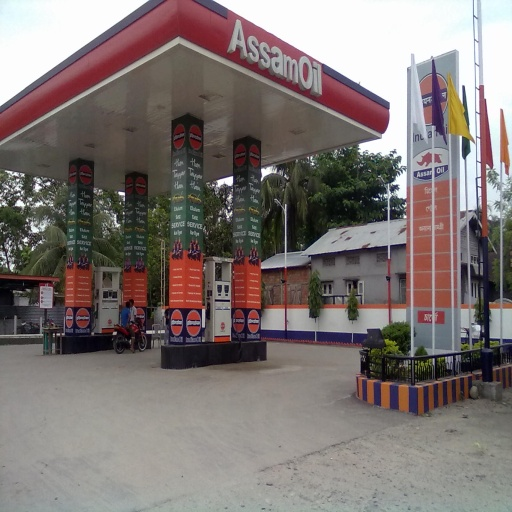roof: (1, 1, 389, 206)
